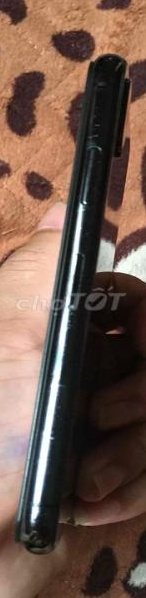scratch: (34, 388, 72, 458), (62, 297, 89, 386)
